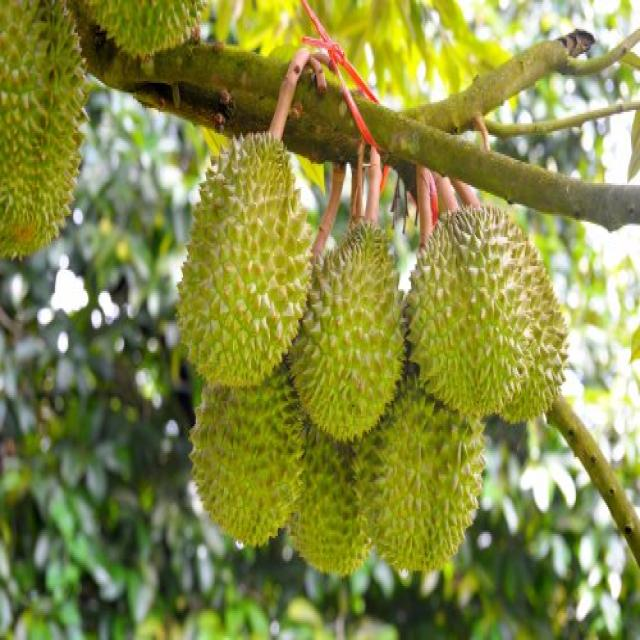Sau Rieng: (176, 131, 313, 388), (408, 202, 564, 418), (290, 218, 405, 438), (368, 384, 486, 570), (2, 13, 86, 250), (192, 380, 308, 546), (287, 426, 377, 573), (85, 0, 203, 58)
